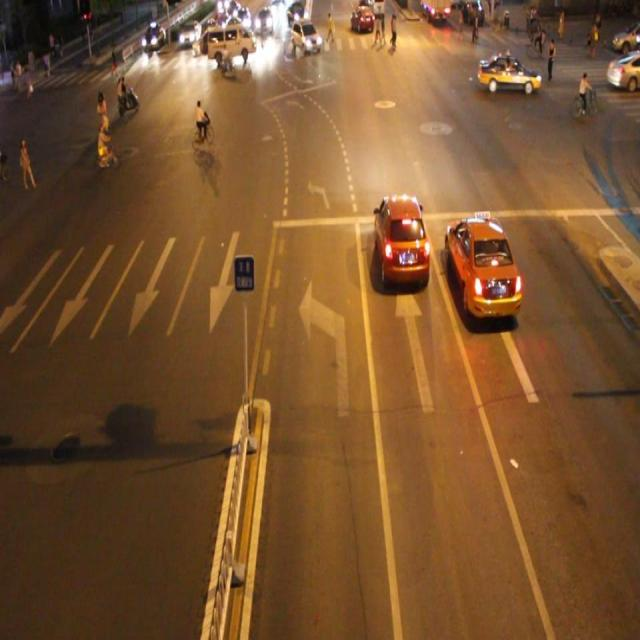car: (447, 216, 519, 320), (375, 194, 429, 286), (477, 51, 538, 96)
truck: (207, 24, 256, 64)
